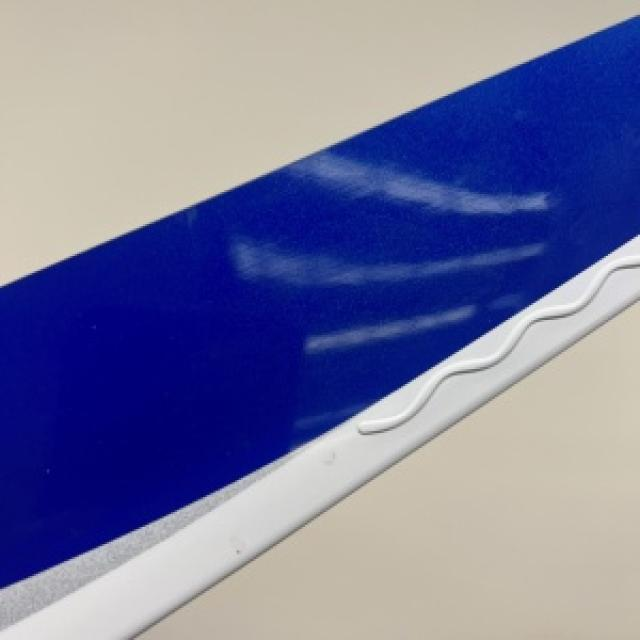healthy: (279, 320, 638, 638)
